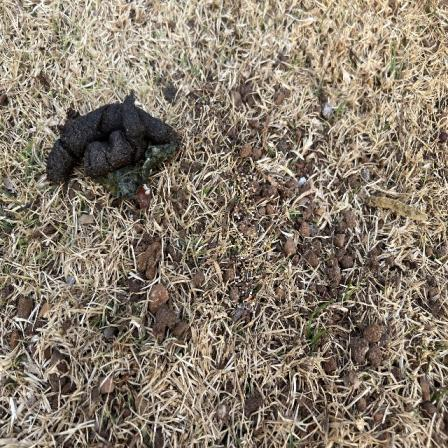dog-poop: (45, 88, 182, 192)
